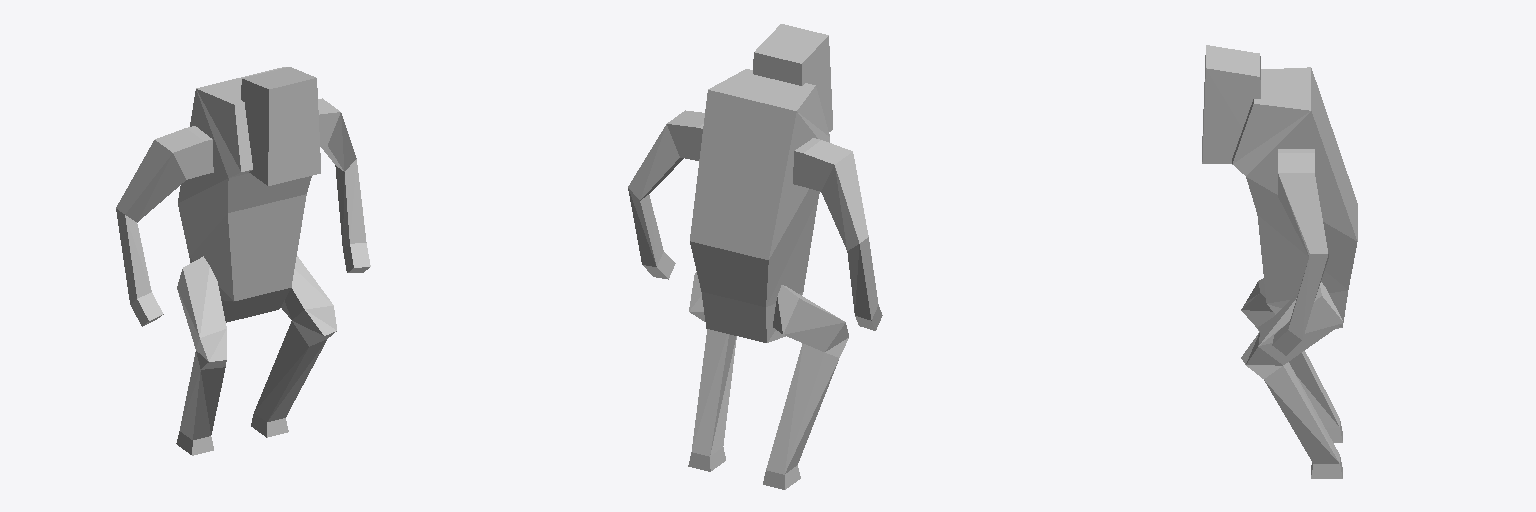
File: geist.obj
3 renders of one model, left to right at view 1: azimuth 30°, elevation 25°; view 2: azimuth 150°, elevation 25°; view 3: azimuth 270°, elevation 25°, orthographic.
Parts seen in each view (by area): view 1: Body, Head, ArmRight, LegRight, LegLeft, ArmLeft; view 2: Body, LegRight, ArmRight, ArmLeft, LegLeft, Head; view 3: Body, LegLeft, ArmLeft, Head, LegRight.
Part boxes in pixels (left/top/right/bottom): Body: left=178, top=67, right=311, bottom=322; Head: left=241, top=67, right=320, bottom=185; ArmRight: left=116, top=126, right=213, bottom=326; LegRight: left=176, top=256, right=226, bottom=455; LegLeft: left=251, top=256, right=336, bottom=437; ArmLeft: left=318, top=98, right=370, bottom=272; Body: left=690, top=69, right=829, bottom=342; LegRight: left=763, top=285, right=848, bottom=489; ArmRight: left=793, top=138, right=882, bottom=330; ArmLeft: left=628, top=110, right=704, bottom=279; LegLeft: left=688, top=272, right=736, bottom=471; Head: left=753, top=24, right=832, bottom=131; Body: left=1232, top=67, right=1357, bottom=328; LegLeft: left=1241, top=282, right=1343, bottom=478; ArmLeft: left=1272, top=149, right=1328, bottom=355; Head: left=1202, top=45, right=1260, bottom=163; LegRight: left=1241, top=278, right=1342, bottom=442.
Size of the model in its own units: 1.39 by 2.29 by 0.8079.